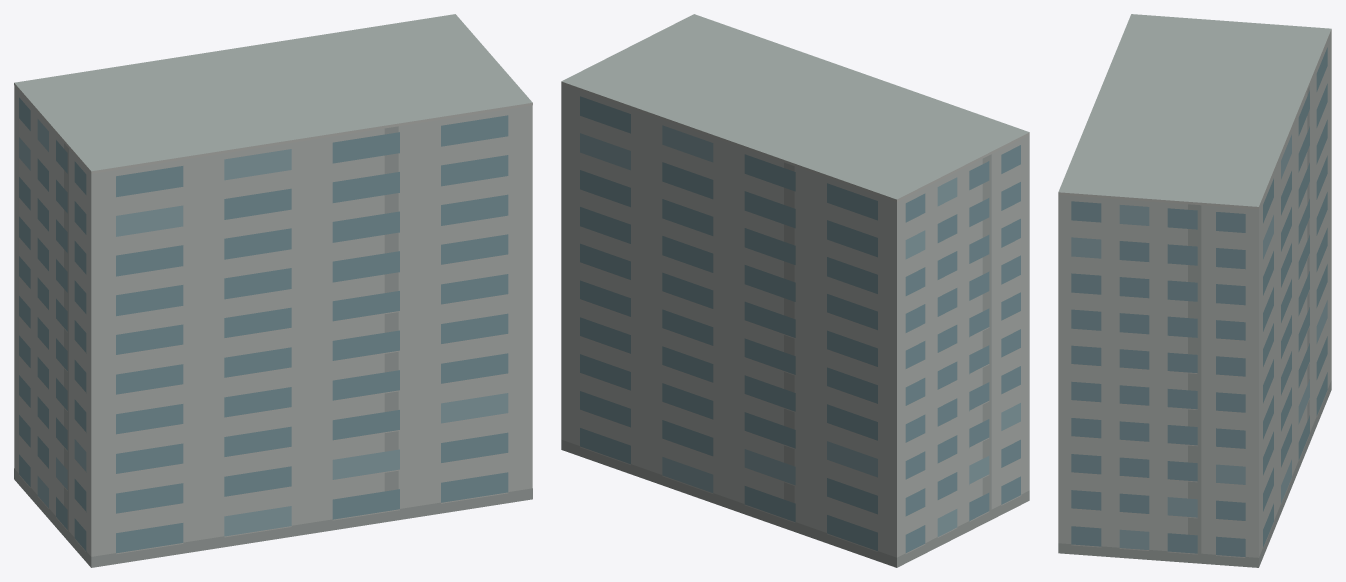
Rendered from residential-606d0a2f-e680-4325-8aeb-bda60bcde9a1.glb.
3 views of the same model, side by side, from view 1: azimuth 30°, elevation 25°; view 2: azimuth 150°, elevation 25°; view 3: azimuth 270°, elevation 25° (orthographic). The views are drawn at different scales.
Visible parts, largest first — view 1: residential-606d0a2f-e680-4325-8aeb-bda60bcde9a1.tmp; view 2: residential-606d0a2f-e680-4325-8aeb-bda60bcde9a1.tmp; view 3: residential-606d0a2f-e680-4325-8aeb-bda60bcde9a1.tmp.
Boxes of the visible parts, <box> form: residential-606d0a2f-e680-4325-8aeb-bda60bcde9a1.tmp: <box>14,14,532,567</box>; residential-606d0a2f-e680-4325-8aeb-bda60bcde9a1.tmp: <box>561,14,1029,567</box>; residential-606d0a2f-e680-4325-8aeb-bda60bcde9a1.tmp: <box>1058,14,1331,567</box>.
Bounding box in the file's own units: 40.13 × 35 × 24.03.
